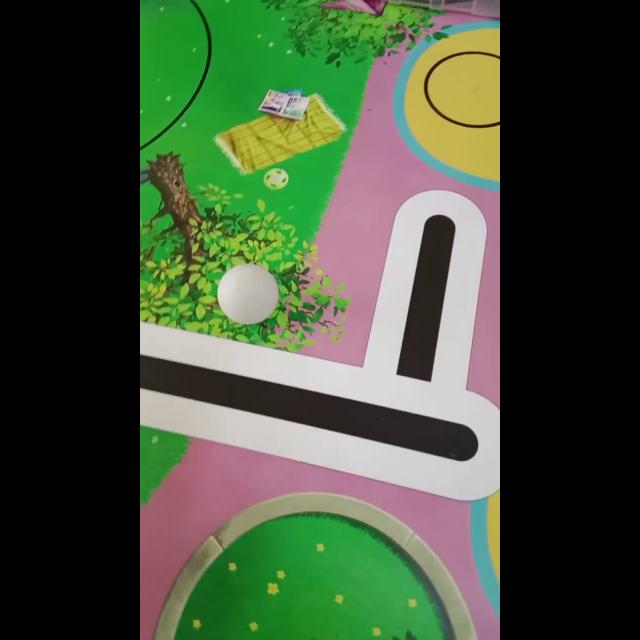white ball: (216, 263, 280, 325)
